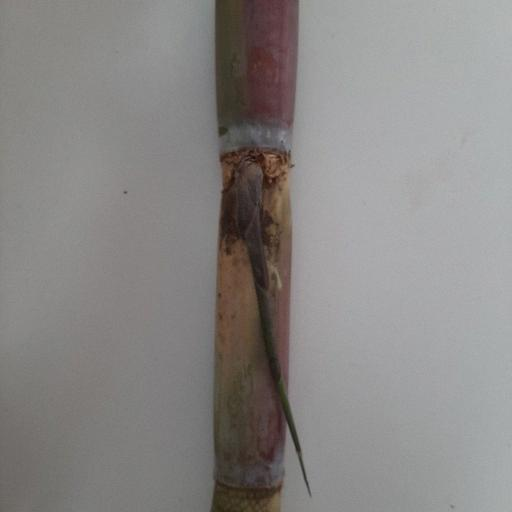Sprouted_Bud: (232, 158, 263, 248)
